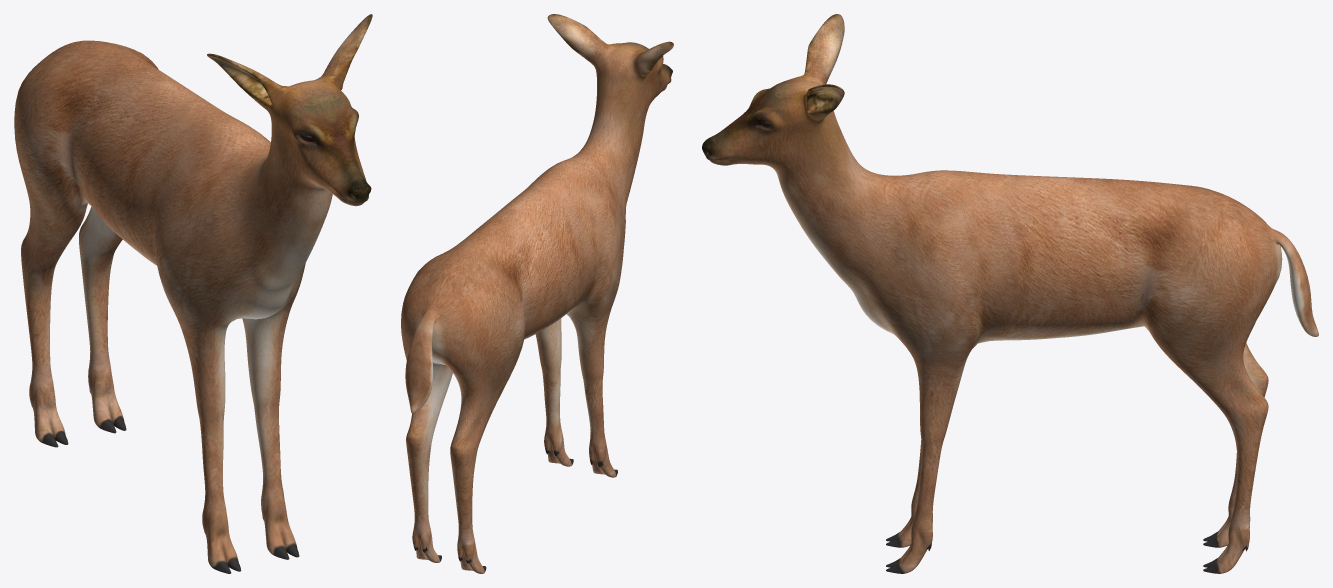
The model's file is deer.fbx.
The picture shows the model from 3 angles, left to right: view 1: azimuth 30°, elevation 25°; view 2: azimuth 150°, elevation 25°; view 3: azimuth 270°, elevation 25°; orthographic projection. The views are drawn at different scales.
Visible parts, largest first — view 1: 12961_White-Tailed_Deer_v1_l2; view 2: 12961_White-Tailed_Deer_v1_l2; view 3: 12961_White-Tailed_Deer_v1_l2.
Boxes of the visible parts, left/top/right/bottom form: 12961_White-Tailed_Deer_v1_l2: left=14, top=14, right=372, bottom=573; 12961_White-Tailed_Deer_v1_l2: left=401, top=14, right=673, bottom=573; 12961_White-Tailed_Deer_v1_l2: left=702, top=14, right=1318, bottom=573.
Bounding box in the file's own units: 13.67 × 43.83 × 48.45.
1 material, 1 textured.
